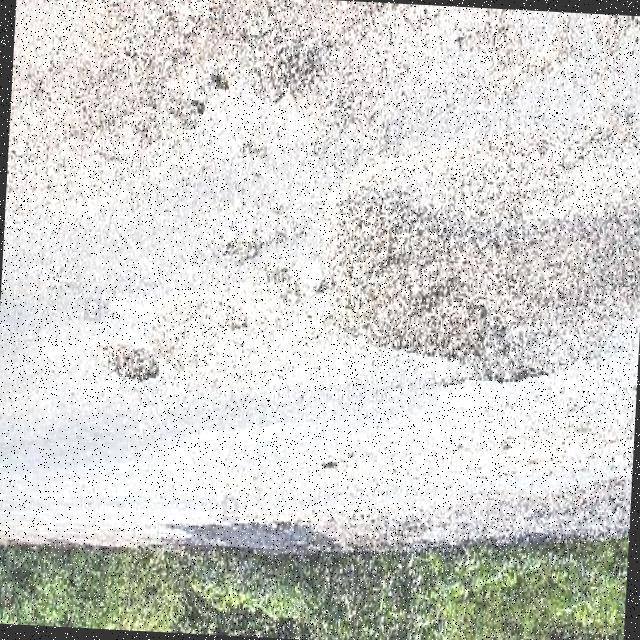Pothole: (310, 118, 640, 387), (106, 340, 160, 388)
